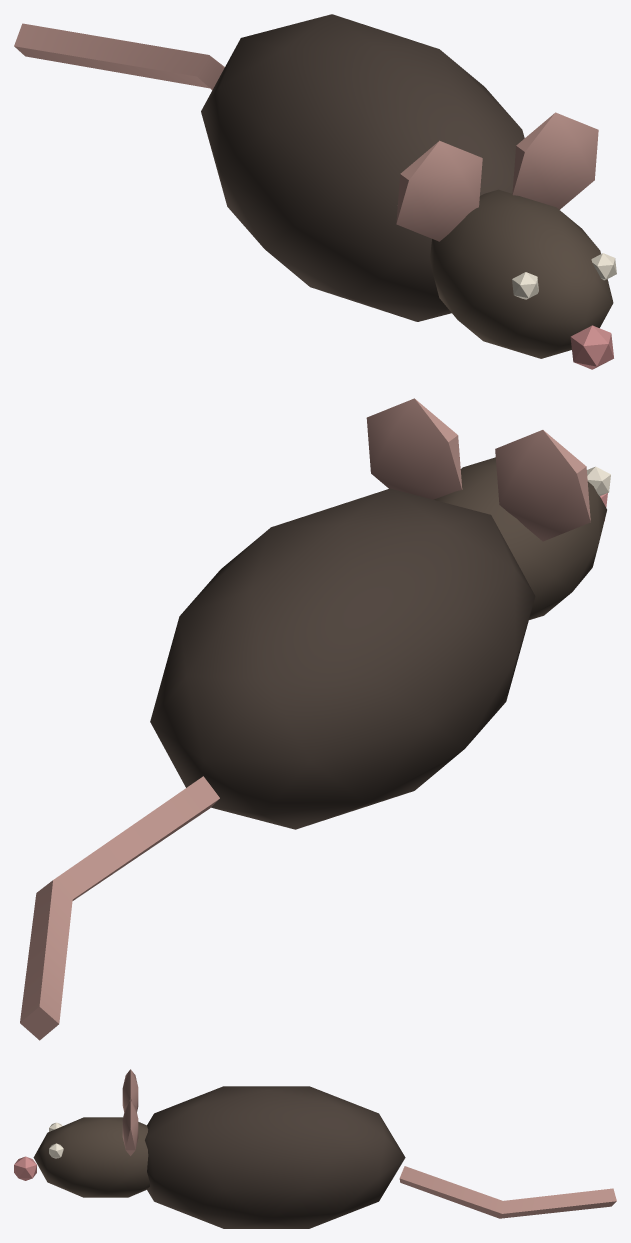
The model's file is rat.glb.
3 views of the same model, one above another, from view 1: azimuth 30°, elevation 25°; view 2: azimuth 150°, elevation 25°; view 3: azimuth 270°, elevation 25° (orthographic). The views are drawn at different scales.
Visible parts, largest first — view 1: rat; view 2: rat; view 3: rat.
Boxes of the visible parts, bbox=[...] form: rat: bbox=[14, 14, 616, 369]; rat: bbox=[20, 398, 610, 1040]; rat: bbox=[14, 1069, 616, 1228].
Size of the model in its own units: 0.2425 by 0.25 by 0.9759.
